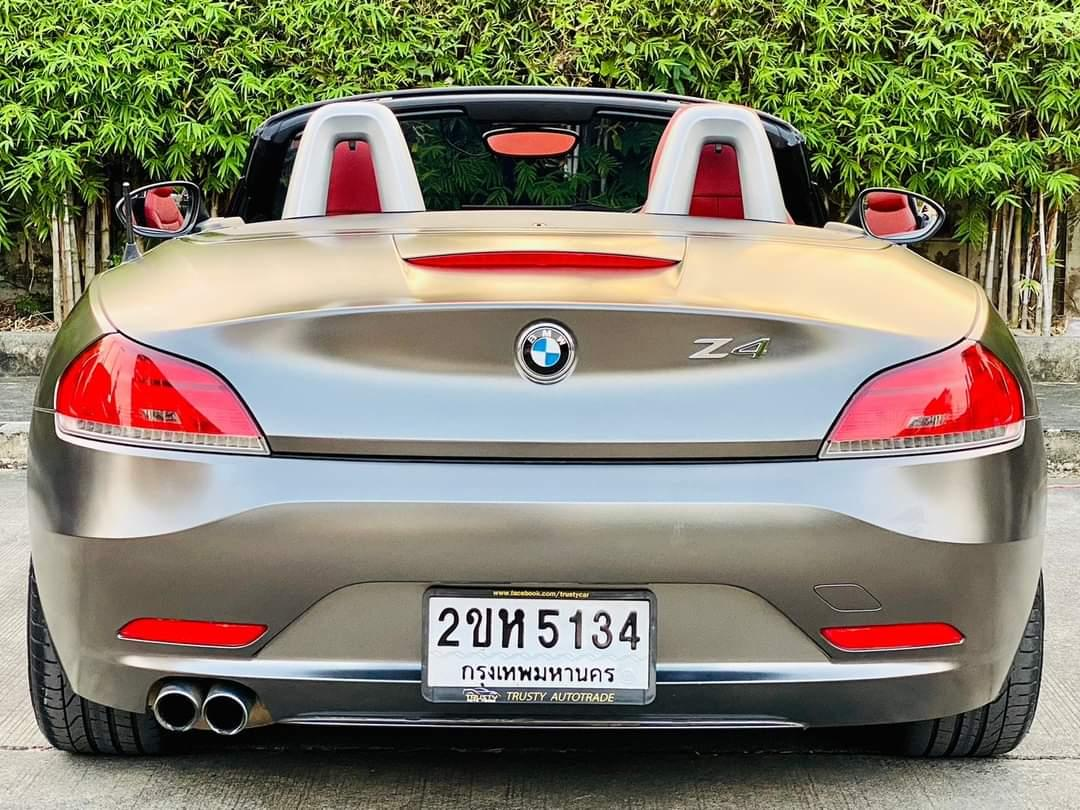license-plate: (420, 577, 659, 708)
